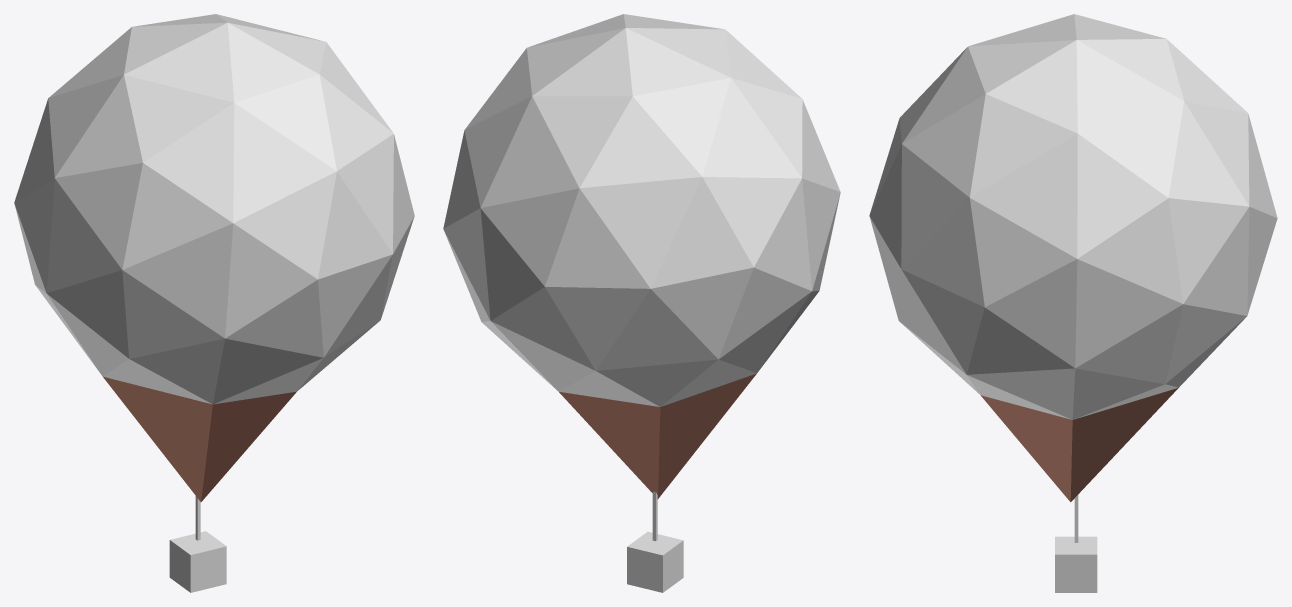
The model's file is airhot.fbx.
The picture shows the model from 3 angles, left to right: view 1: azimuth 30°, elevation 25°; view 2: azimuth 150°, elevation 25°; view 3: azimuth 270°, elevation 25°; orthographic projection. The views are drawn at different scales.
Parts seen in each view (by area): view 1: hotairballoon; view 2: hotairballoon; view 3: hotairballoon.
Part boxes in pixels (<box>): hotairballoon: <box>14,14,414,592</box>; hotairballoon: <box>443,14,840,592</box>; hotairballoon: <box>869,14,1277,592</box>.
Size of the model in its own units: 237 by 367 by 243.
